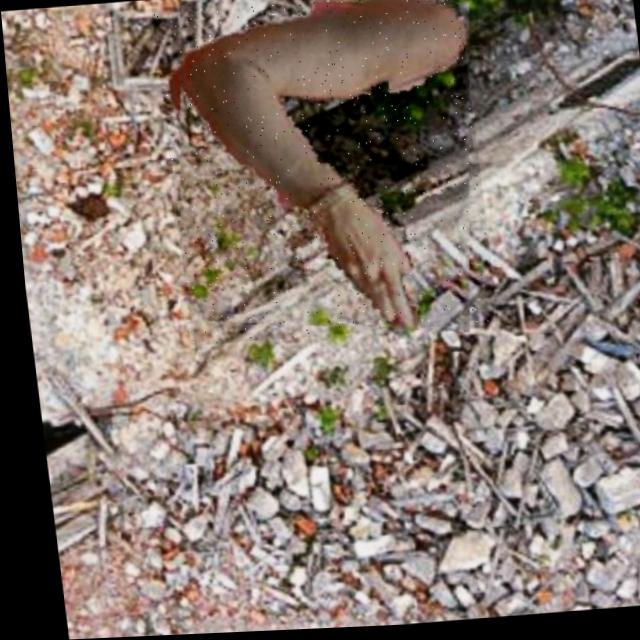Person in Rubble: (148, 0, 492, 348)
